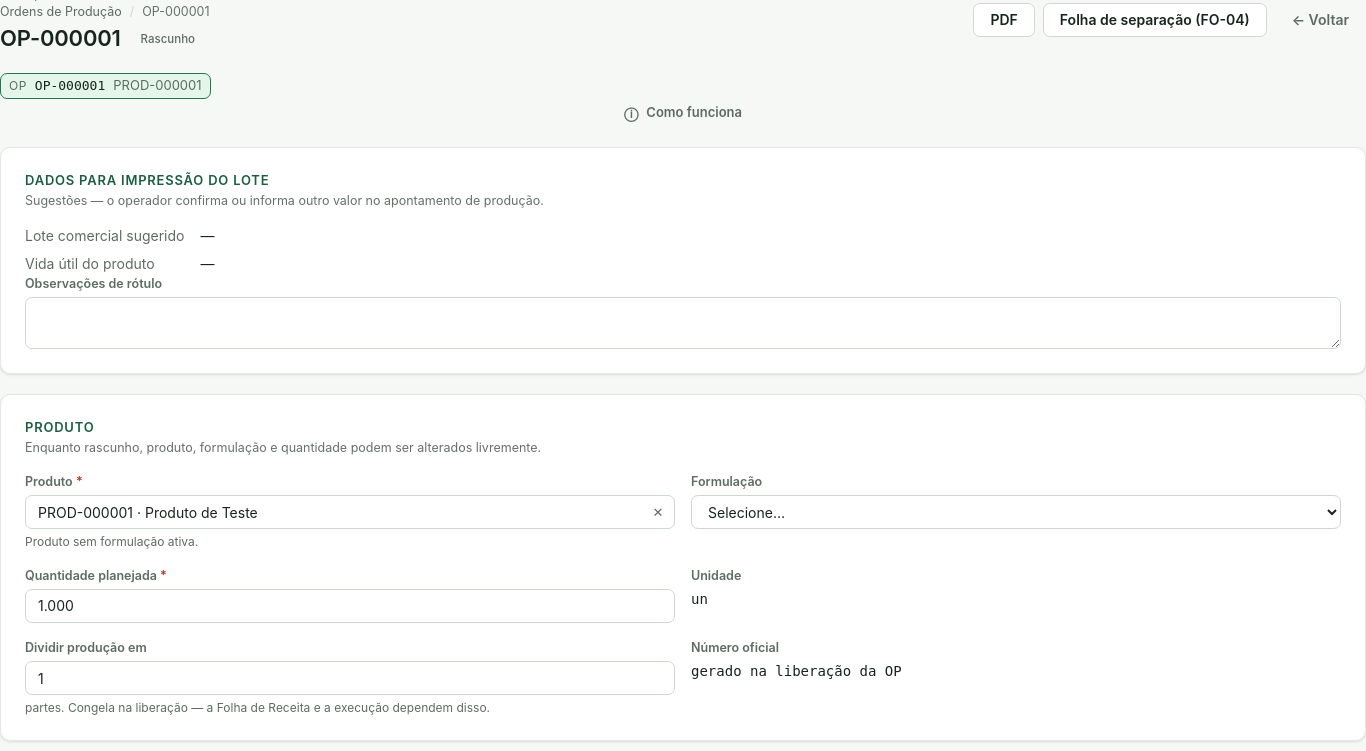
Test: OP em rascunho com programação — mudar a quantidade › a programação que surgiu depois da leitura: a recusa 409 abre a mesma pergunta
This screenshot has width=1366, height=751.
expect the heading "OP-000001" is shown: met, box [0,25,121,53]
Replace the text in the field with id "op-quantity" with "2000" at [350, 606], box [25,589,675,623]
(page scrolled)
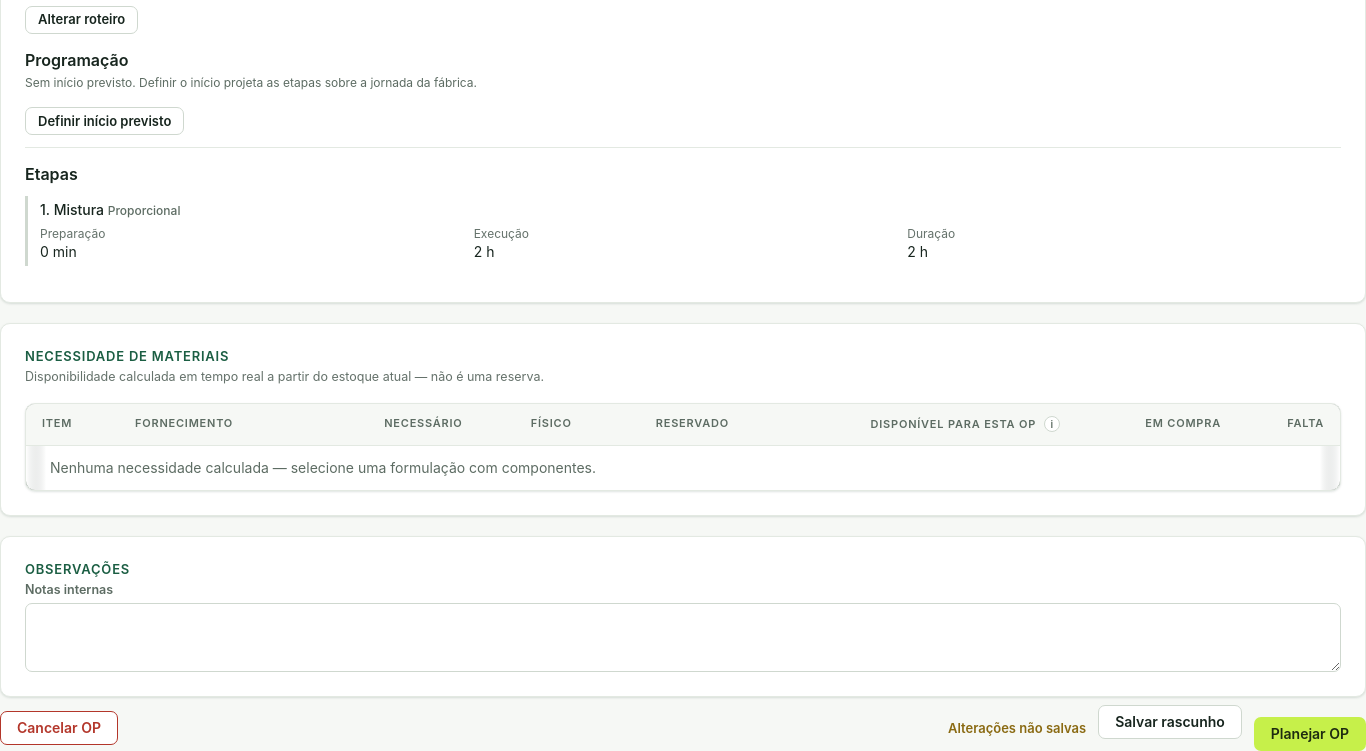
Click the button "Salvar rascunho" at [1170, 722], box [1098,705,1242,739]
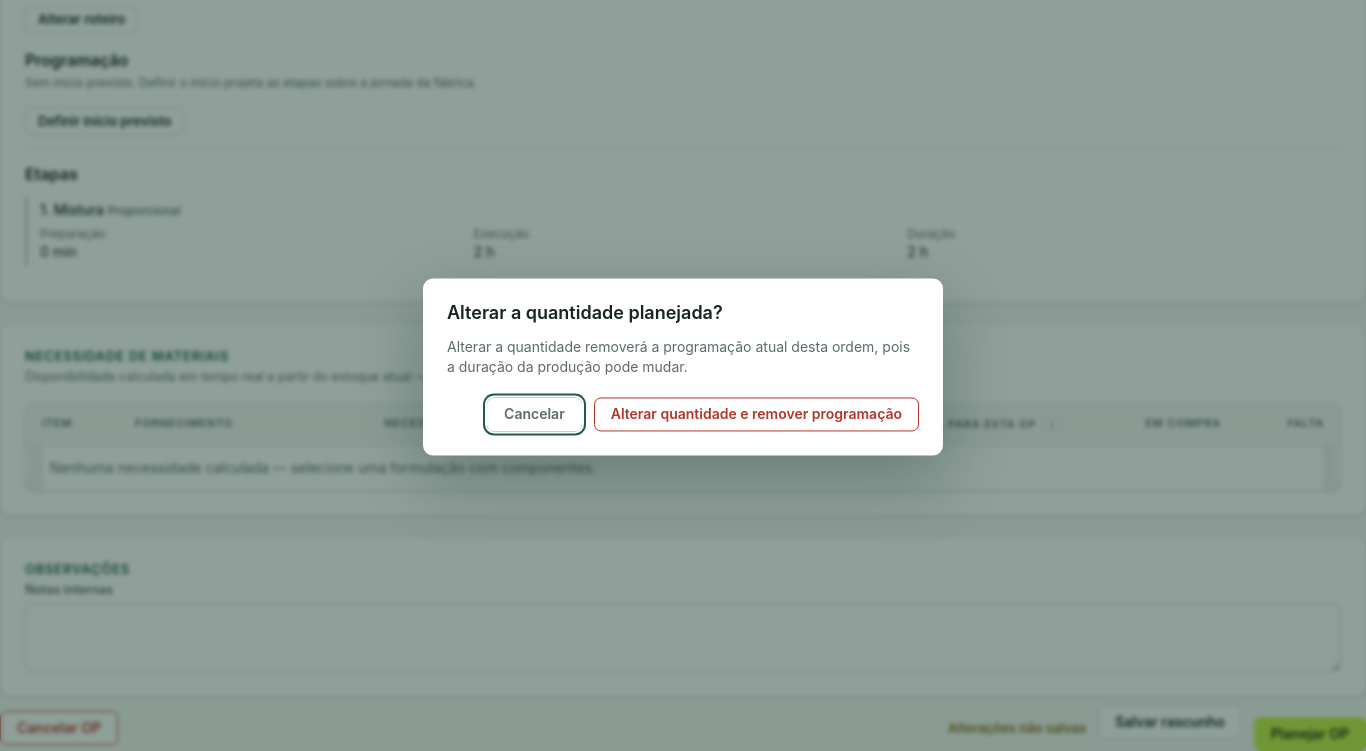
Click the button "Alterar quantidade e remover programação" at [756, 414], box [594,398,919,432]
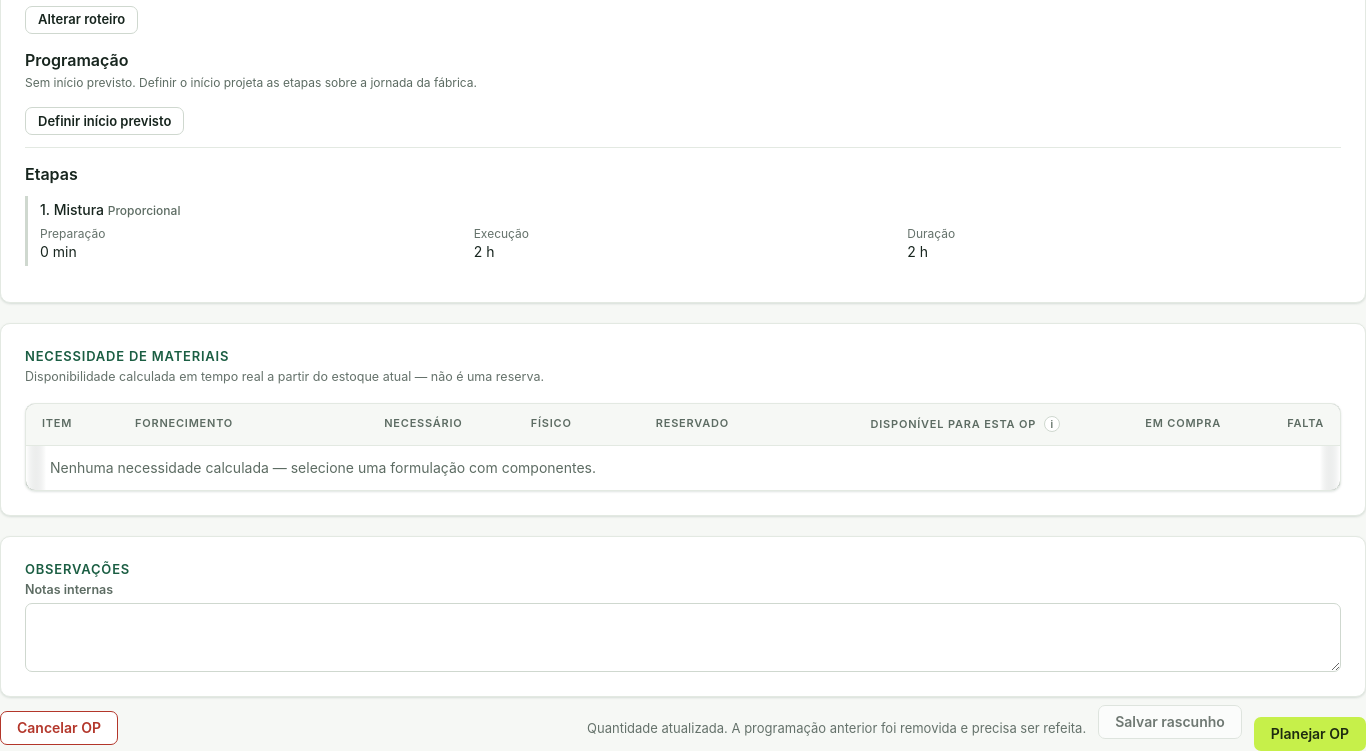
expect the message shows "Quantidade atualizada. A programação anterior foi removida e precisa ser refeita.": met, box [587,720,1086,736]
